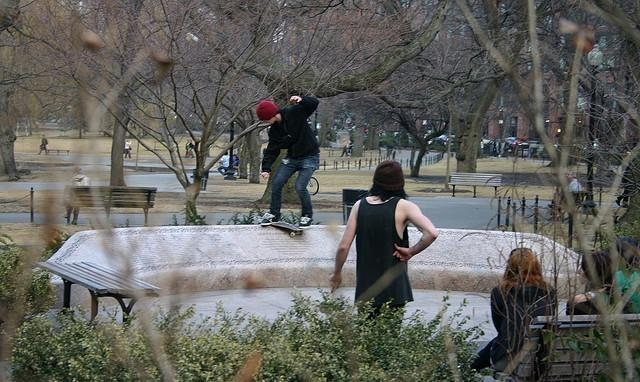bicycle: (306, 177, 320, 196)
car: (426, 134, 456, 154), (483, 139, 513, 156), (507, 138, 530, 148), (260, 146, 268, 164), (480, 136, 495, 143)
